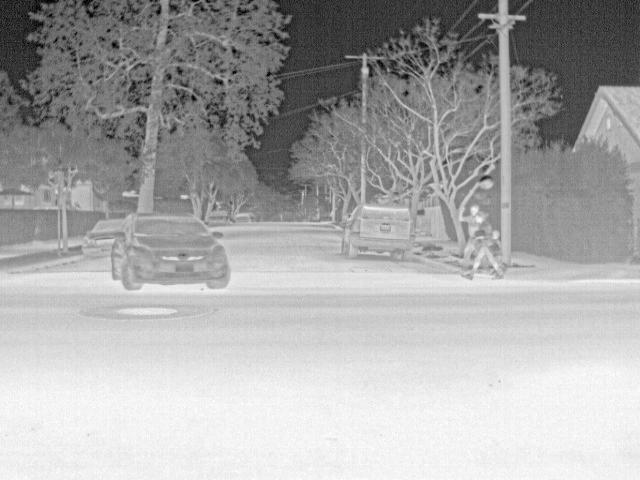car: (110, 211, 231, 291), (341, 202, 416, 264), (81, 218, 125, 260), (208, 209, 230, 227), (236, 211, 254, 223)
person: (468, 211, 495, 280), (457, 204, 482, 266), (489, 227, 506, 277)
